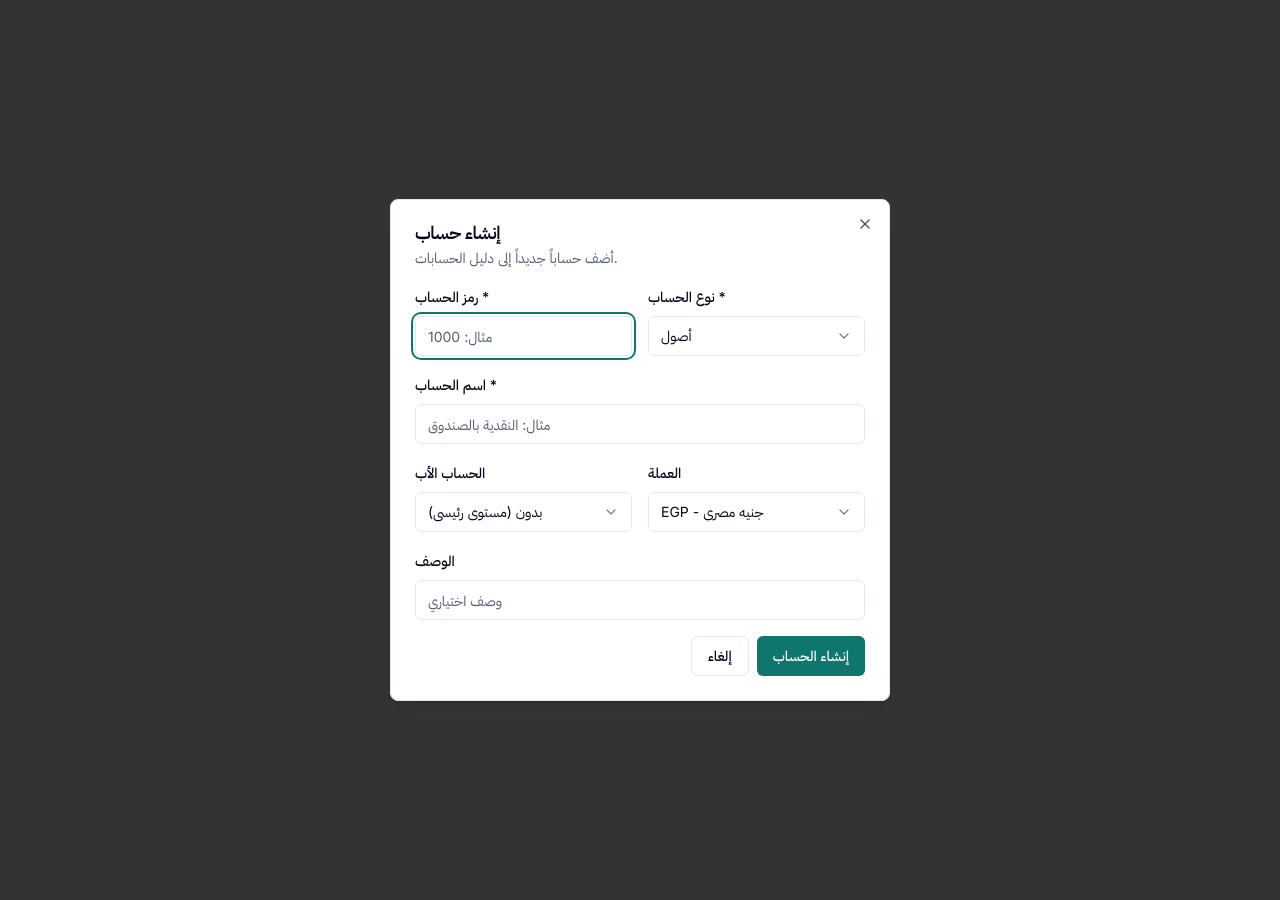
Test case: AccountFormDialog › renders in Arabic without English labels and translates validation
Expected: the heading "إنشاء حساب" is shown, [415,222,500,243]
Expected: the text "رمز الحساب *" is shown, [415,288,489,305]
Click the button "إنشاء الحساب": (811, 656) [757,636,865,676]
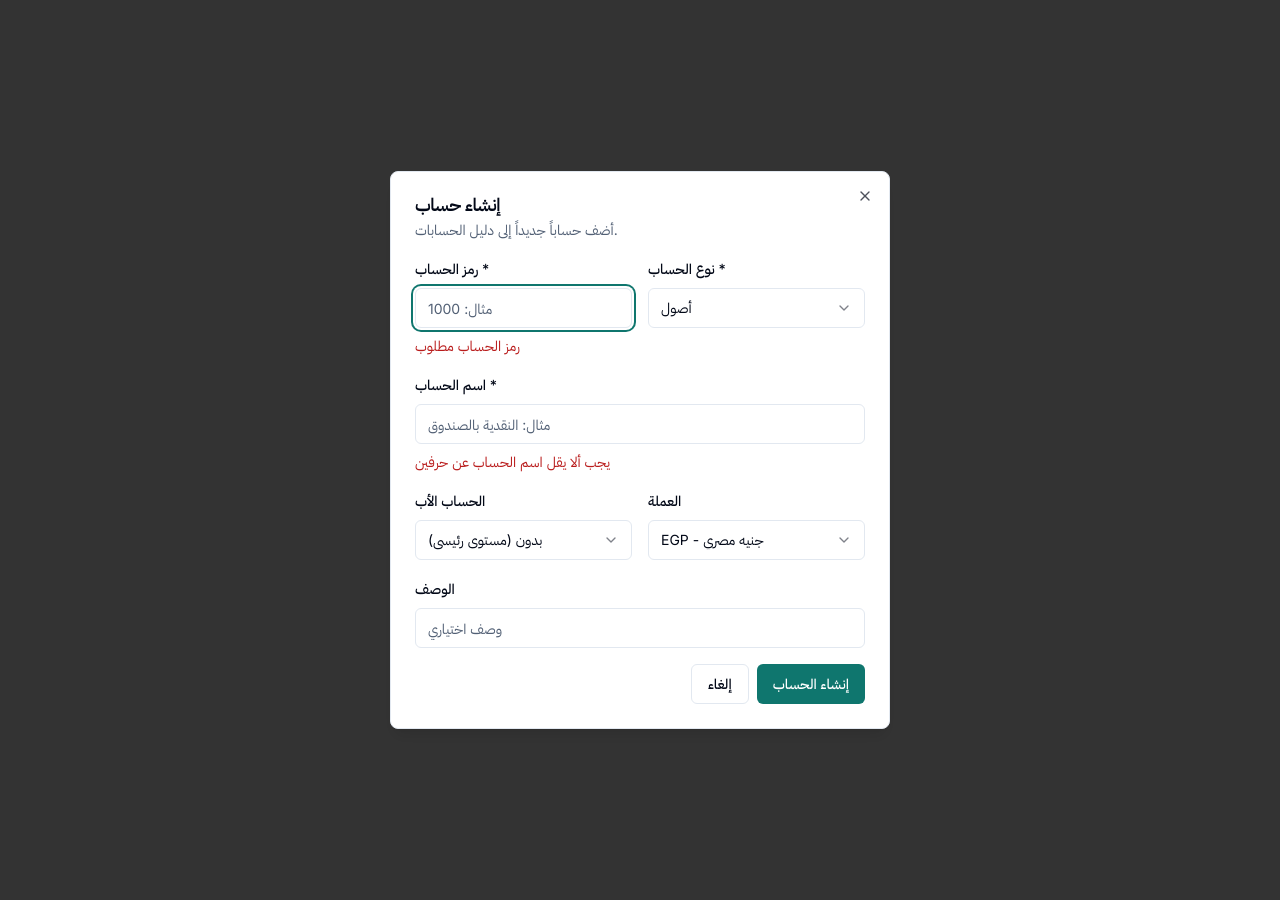
Expected: the text "رمز الحساب مطلوب" is shown, [415,337,520,354]
